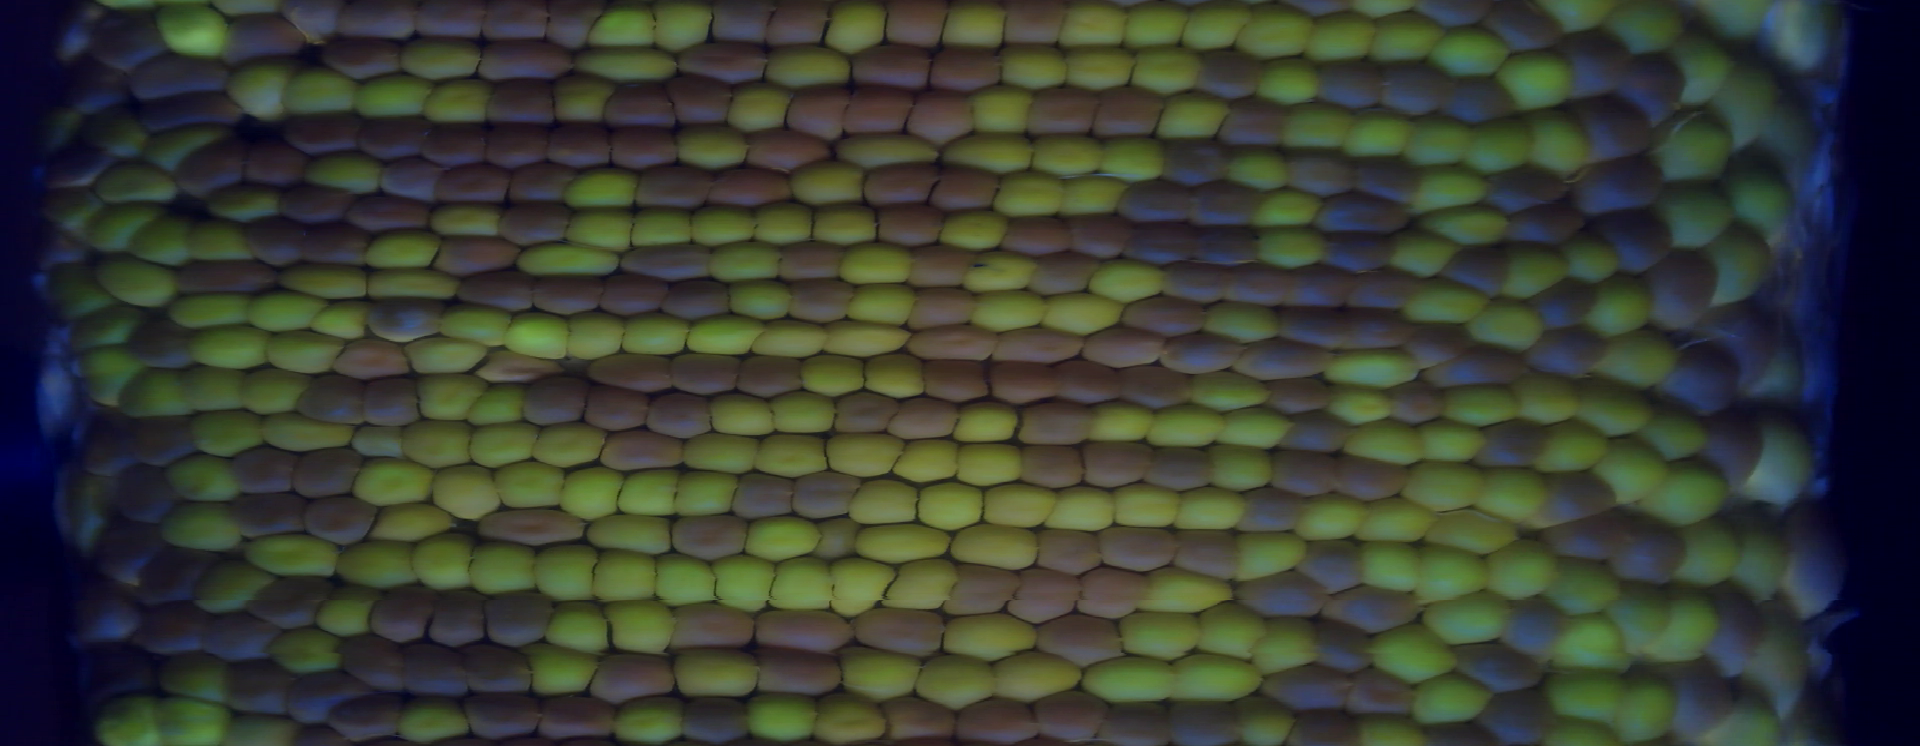fluorescent: (1747, 404, 1829, 532), (1360, 615, 1464, 695), (1648, 171, 1742, 257), (1643, 452, 1740, 533), (1649, 107, 1739, 194), (1717, 151, 1801, 243), (1745, 601, 1815, 710), (1762, 1, 1850, 85), (1695, 219, 1778, 307), (1712, 47, 1782, 151), (1588, 432, 1678, 513), (1160, 647, 1272, 710), (50, 461, 118, 566), (83, 249, 187, 316), (1419, 586, 1524, 652), (829, 639, 932, 707), (182, 552, 285, 620), (1731, 501, 1796, 608), (1597, 323, 1686, 401), (662, 641, 767, 707), (1474, 534, 1567, 608), (65, 341, 156, 415), (934, 608, 1044, 669), (1491, 42, 1578, 119), (1581, 269, 1660, 353), (1648, 578, 1727, 663), (1407, 664, 1501, 734), (909, 649, 1004, 718), (1548, 611, 1643, 680), (1538, 548, 1629, 620), (1600, 578, 1682, 658), (1604, 668, 1687, 746), (1393, 453, 1494, 518), (986, 646, 1090, 708), (1513, 107, 1600, 181), (152, 495, 250, 561), (1669, 23, 1742, 110), (1420, 17, 1513, 86), (238, 526, 343, 586), (1116, 606, 1215, 670), (70, 195, 167, 260), (1078, 650, 1187, 708), (1757, 73, 1820, 174), (1243, 610, 1332, 680), (219, 49, 299, 127), (756, 550, 840, 624), (1138, 559, 1243, 617), (564, 37, 684, 88), (1540, 661, 1633, 728), (1669, 516, 1750, 592), (400, 526, 482, 600), (822, 550, 906, 622), (756, 38, 862, 94), (1571, 374, 1657, 443), (529, 534, 609, 609), (1401, 539, 1494, 603), (816, 423, 912, 484), (137, 114, 240, 171), (462, 535, 546, 605), (1182, 363, 1280, 423), (1393, 272, 1498, 328), (947, 518, 1049, 575), (1423, 503, 1526, 560), (358, 262, 473, 312), (144, 647, 239, 708), (1335, 413, 1433, 472), (1190, 597, 1277, 663), (228, 363, 323, 423), (1229, 1, 1322, 62), (1196, 295, 1289, 356), (1457, 295, 1550, 356), (847, 516, 958, 567), (1318, 342, 1428, 393), (1360, 9, 1451, 71), (1378, 224, 1472, 284), (827, 124, 942, 173), (801, 688, 899, 746), (518, 638, 606, 702), (1146, 86, 1239, 146), (1468, 465, 1554, 530), (276, 62, 366, 124), (583, 541, 664, 610), (1599, 1, 1693, 60), (1757, 309, 1809, 416), (148, 1, 235, 65), (598, 594, 686, 657), (255, 407, 364, 457), (534, 598, 620, 661), (1463, 113, 1543, 181), (394, 28, 485, 88), (111, 363, 198, 425), (329, 535, 424, 593), (1398, 105, 1480, 171), (1507, 366, 1589, 432), (647, 548, 730, 612), (1298, 4, 1381, 69), (1340, 102, 1423, 167), (511, 236, 629, 282), (1349, 494, 1442, 551), (84, 157, 189, 208), (1412, 198, 1513, 251), (932, 127, 1038, 178), (874, 557, 965, 616), (39, 258, 121, 323), (1493, 239, 1576, 303), (111, 209, 200, 269), (664, 118, 756, 175), (839, 473, 931, 530), (545, 64, 623, 131), (951, 246, 1049, 300), (180, 320, 278, 374), (1102, 473, 1187, 535), (740, 510, 835, 565), (168, 360, 257, 419), (780, 154, 873, 211), (269, 256, 376, 305), (1120, 40, 1207, 100), (1273, 97, 1360, 157), (388, 688, 479, 746), (700, 235, 795, 290), (82, 100, 163, 164), (157, 285, 264, 333), (989, 36, 1075, 96), (396, 415, 481, 475), (258, 325, 351, 380), (348, 454, 438, 511), (1024, 127, 1112, 185), (156, 446, 244, 503), (735, 686, 819, 746), (719, 73, 800, 136), (1349, 537, 1430, 599), (463, 414, 549, 473), (814, 315, 920, 363), (960, 285, 1053, 339), (62, 300, 156, 354), (31, 181, 108, 246), (427, 459, 504, 524), (414, 72, 497, 132), (1054, 40, 1145, 96), (1287, 490, 1378, 545), (973, 479, 1068, 532), (1641, 396, 1712, 465), (345, 67, 437, 121), (555, 462, 631, 527), (1248, 220, 1337, 276), (1167, 481, 1256, 537), (749, 428, 839, 483), (1228, 526, 1318, 581), (1406, 165, 1499, 218), (1242, 180, 1329, 236), (607, 690, 694, 746), (81, 685, 160, 746), (711, 549, 781, 619), (1706, 688, 1790, 746), (928, 201, 1016, 256), (831, 238, 920, 293), (883, 435, 971, 490), (578, 1, 670, 54), (411, 367, 497, 424), (680, 309, 769, 363), (1036, 289, 1131, 339), (1245, 55, 1329, 113), (1040, 481, 1127, 537), (360, 222, 451, 274), (175, 211, 260, 267), (1082, 254, 1171, 307), (860, 348, 936, 410), (235, 287, 332, 336), (362, 500, 462, 548), (986, 165, 1071, 220), (489, 458, 571, 516), (1436, 381, 1526, 434), (911, 477, 989, 537), (947, 440, 1033, 494), (965, 80, 1040, 142), (529, 416, 613, 472), (260, 624, 344, 679), (1091, 130, 1172, 187), (560, 201, 640, 258), (309, 575, 384, 636), (665, 464, 747, 521), (186, 403, 268, 459), (707, 385, 785, 443), (298, 147, 387, 198), (146, 691, 229, 746), (819, 1, 896, 60), (678, 201, 767, 252), (1200, 439, 1277, 497), (1173, 1, 1255, 56), (1551, 227, 1624, 289), (432, 296, 516, 350), (1054, 169, 1134, 225), (498, 306, 578, 363), (610, 465, 684, 526), (1079, 396, 1163, 448), (1139, 402, 1232, 450), (556, 160, 642, 212), (1220, 138, 1294, 197), (791, 343, 871, 398), (945, 393, 1022, 450), (1114, 1, 1193, 56), (419, 195, 507, 244), (675, 428, 763, 477), (720, 276, 800, 330), (841, 278, 924, 330), (1408, 416, 1491, 468), (765, 386, 842, 441), (1211, 405, 1296, 456), (618, 305, 697, 359), (555, 307, 629, 364), (936, 1, 1011, 56), (648, 1, 720, 59), (1224, 693, 1303, 746), (804, 198, 887, 249), (1056, 1, 1130, 56), (1316, 380, 1397, 430), (26, 97, 91, 159), (200, 176, 291, 220), (747, 195, 818, 251), (624, 202, 704, 252), (744, 317, 831, 363), (400, 333, 496, 374), (213, 706, 305, 746), (304, 294, 371, 348), (462, 381, 534, 429), (1532, 710, 1618, 746), (345, 423, 411, 468), (1346, 710, 1429, 746)
nonfluorescent: (1778, 492, 1855, 624), (1647, 655, 1742, 745), (1520, 461, 1624, 540), (1604, 503, 1693, 594), (1562, 154, 1673, 228), (62, 636, 167, 710), (1642, 244, 1727, 334), (1587, 198, 1680, 281), (1702, 577, 1772, 685), (1660, 332, 1747, 416), (1561, 89, 1657, 165), (1706, 296, 1785, 387), (1693, 402, 1771, 495), (1545, 23, 1638, 99), (746, 641, 852, 707), (1540, 496, 1644, 563), (747, 601, 862, 661), (1609, 47, 1693, 127), (661, 595, 764, 661), (86, 510, 168, 592), (1414, 341, 1531, 398), (1367, 54, 1462, 122), (84, 4, 175, 76), (1030, 608, 1131, 671), (1442, 636, 1547, 697), (1229, 565, 1337, 624), (212, 10, 311, 73), (126, 538, 216, 608), (469, 501, 593, 551), (329, 625, 414, 698), (1254, 658, 1362, 715), (845, 604, 951, 661), (70, 405, 148, 483), (274, 664, 377, 723), (587, 646, 680, 710), (933, 559, 1027, 622), (1469, 685, 1567, 746), (839, 37, 938, 97), (470, 33, 580, 87), (474, 584, 562, 652), (1307, 189, 1418, 241), (1090, 521, 1185, 582), (130, 89, 249, 138), (1521, 323, 1618, 383), (122, 50, 238, 100), (898, 87, 983, 154), (474, 71, 569, 131), (452, 686, 551, 744), (1321, 581, 1420, 638), (1224, 336, 1343, 383), (580, 345, 683, 401), (871, 688, 969, 746), (1177, 173, 1269, 234), (662, 507, 758, 566), (214, 655, 302, 719), (456, 635, 544, 698), (53, 50, 136, 118), (197, 601, 282, 668), (216, 489, 312, 546), (670, 34, 775, 87), (1166, 521, 1247, 589), (1029, 682, 1116, 746), (1086, 78, 1169, 145), (1495, 593, 1571, 665), (121, 597, 214, 655), (595, 425, 694, 480), (107, 462, 187, 529), (1311, 224, 1402, 284), (1472, 412, 1559, 474), (1325, 450, 1419, 507), (740, 122, 840, 176), (285, 439, 369, 503), (1071, 320, 1169, 375), (1065, 562, 1157, 621), (1431, 239, 1516, 303), (1015, 82, 1104, 142), (1044, 353, 1134, 413), (245, 566, 331, 628), (168, 138, 249, 205), (947, 692, 1046, 746), (236, 209, 318, 274), (1438, 71, 1524, 132), (119, 306, 196, 375), (418, 584, 495, 653), (699, 160, 800, 213), (627, 157, 720, 213), (1111, 175, 1204, 232), (394, 637, 476, 701), (358, 290, 448, 348), (906, 352, 1000, 407), (320, 687, 411, 744), (1278, 142, 1363, 203), (337, 187, 440, 238), (171, 254, 285, 299), (900, 318, 1005, 367), (444, 265, 540, 318), (1117, 216, 1204, 274), (1010, 394, 1097, 453), (1304, 53, 1391, 111), (1007, 568, 1090, 630), (61, 579, 146, 639), (534, 686, 618, 746), (922, 160, 1008, 219), (121, 412, 207, 470), (1074, 435, 1160, 494), (1264, 443, 1349, 502), (613, 238, 719, 285), (778, 271, 860, 332), (786, 461, 863, 526), (1479, 160, 1570, 216), (426, 232, 528, 281), (1223, 483, 1311, 539), (593, 78, 684, 132), (977, 356, 1069, 410), (836, 78, 918, 138), (512, 372, 594, 432), (1152, 328, 1253, 377), (1480, 1, 1567, 58), (778, 82, 856, 145), (1116, 292, 1215, 341), (1157, 695, 1251, 746), (1304, 612, 1379, 677), (989, 325, 1093, 371), (276, 107, 367, 159), (659, 348, 748, 402), (1133, 441, 1216, 499), (1275, 261, 1362, 316), (1016, 247, 1103, 303), (898, 236, 984, 292), (653, 276, 740, 331), (1210, 96, 1289, 156), (227, 439, 306, 499), (298, 490, 377, 550), (1344, 149, 1424, 209), (1269, 404, 1357, 458), (1029, 521, 1109, 579), (1292, 533, 1368, 595), (470, 345, 569, 393), (42, 1, 111, 69), (1057, 208, 1140, 265), (852, 158, 943, 209), (1109, 363, 1200, 414), (1526, 277, 1607, 334), (373, 149, 451, 209), (898, 281, 983, 334), (1340, 668, 1425, 722), (365, 579, 435, 646), (487, 198, 577, 250), (824, 388, 907, 443), (324, 334, 418, 383), (660, 70, 736, 130), (872, 198, 956, 252), (425, 157, 516, 207), (1213, 255, 1292, 312), (290, 371, 369, 429), (1013, 439, 1091, 496), (729, 465, 802, 527), (349, 109, 432, 163), (574, 379, 654, 435), (922, 43, 1009, 94), (539, 116, 620, 171), (290, 219, 375, 272), (636, 390, 720, 442), (1153, 132, 1231, 190), (271, 178, 361, 227), (328, 1, 429, 45), (524, 271, 612, 321), (1091, 696, 1179, 746), (1182, 220, 1264, 274), (24, 216, 98, 276), (1501, 197, 1587, 249), (1187, 47, 1262, 104), (1398, 318, 1480, 371), (478, 118, 556, 173), (880, 394, 966, 445), (1338, 266, 1425, 315), (600, 121, 684, 171), (876, 1, 954, 55), (235, 135, 313, 189), (730, 349, 808, 403), (354, 375, 429, 431), (1255, 372, 1337, 423), (758, 1, 834, 55), (591, 269, 673, 318), (418, 115, 489, 171), (1153, 256, 1229, 309), (1330, 310, 1420, 354), (40, 138, 116, 190), (501, 156, 576, 207), (703, 1, 781, 49), (1379, 377, 1449, 430), (1000, 1, 1071, 53), (771, 239, 850, 285), (407, 1, 493, 43), (996, 213, 1079, 256), (478, 1, 558, 45), (1276, 707, 1367, 746), (540, 1, 609, 53), (1406, 1, 1504, 36), (280, 1, 348, 37)
